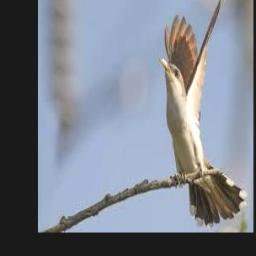Cuckoo: (158, 0, 247, 225)
